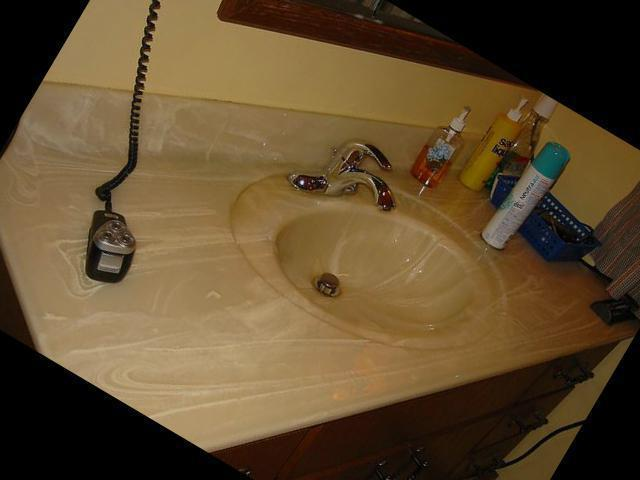Lavamanos: (216, 105, 544, 400)
